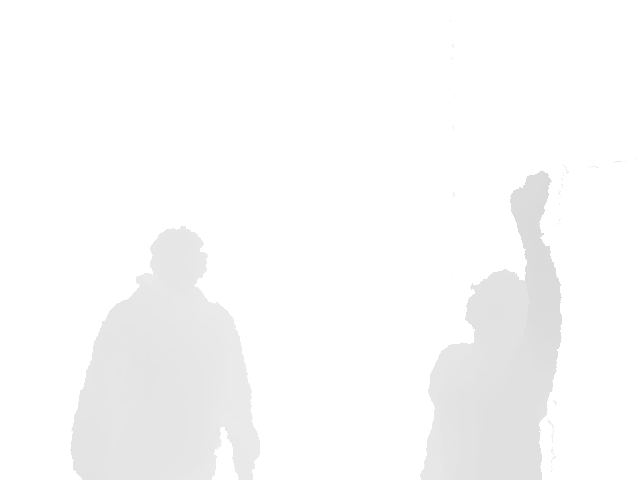hand: (510, 171, 550, 226)
head: (463, 269, 530, 345), (150, 225, 208, 299)
person: (70, 225, 262, 480), (417, 171, 565, 480)
